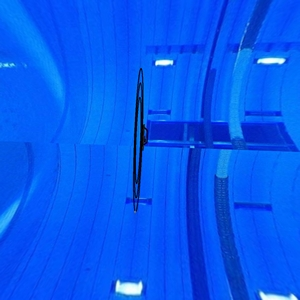circle: (126, 65, 152, 216)
submarine: (141, 123, 152, 154)
